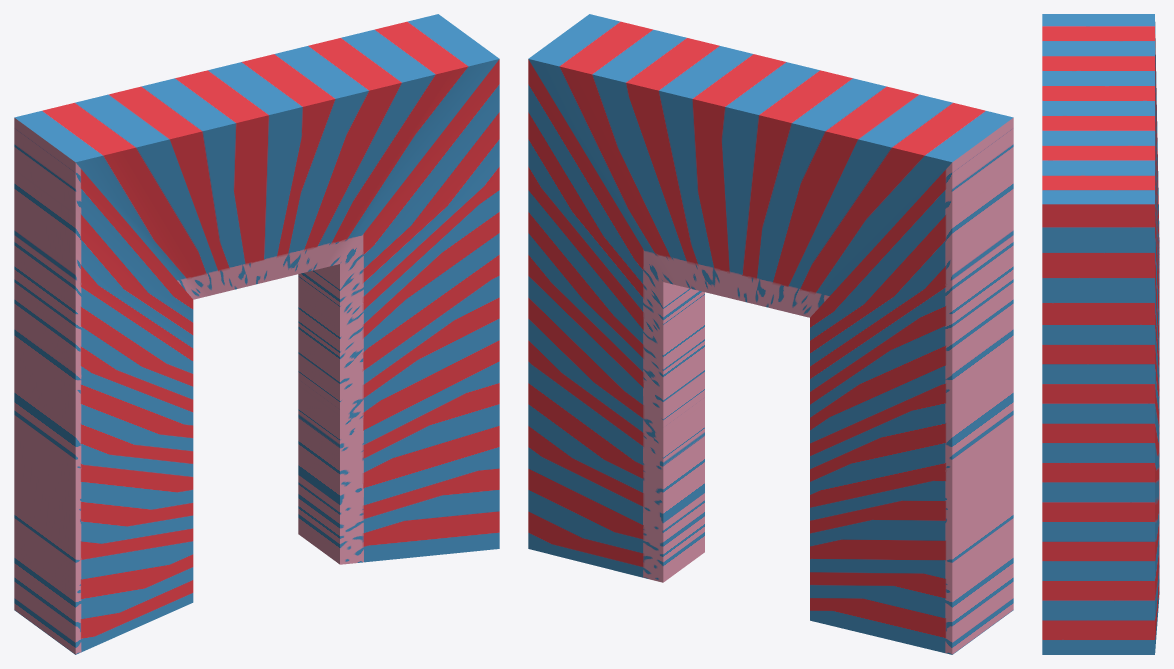
Rendered from M_door_01.fbx.
The picture shows the model from 3 angles, left to right: view 1: azimuth 30°, elevation 25°; view 2: azimuth 150°, elevation 25°; view 3: azimuth 270°, elevation 25°; orthographic projection. The views are drawn at different scales.
Visible parts, largest first — view 1: Cube; view 2: Cube; view 3: Cube.
Boxes of the visible parts, box(x1,y1,x2,y2) form: Cube: box(14, 14, 499, 654); Cube: box(528, 14, 1013, 654); Cube: box(1042, 14, 1159, 654).
Bounding box in the file's own units: 476 × 528 × 124.
